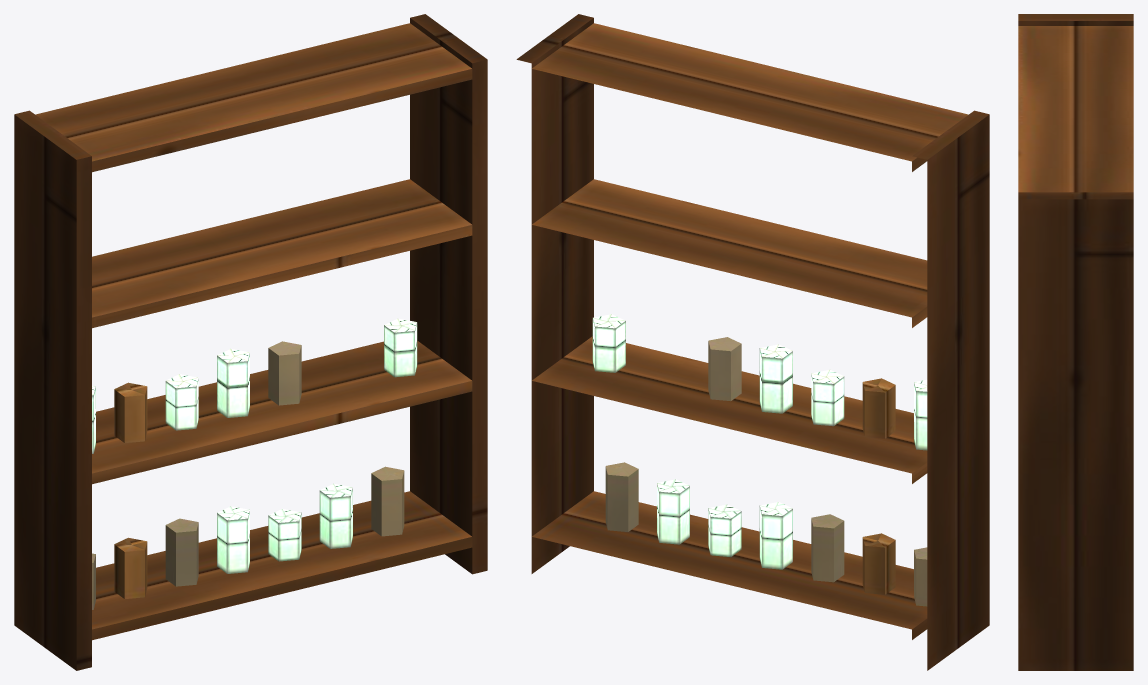
The model's file is shop_shelf.glb.
The picture shows the model from 3 angles, left to right: view 1: azimuth 30°, elevation 25°; view 2: azimuth 150°, elevation 25°; view 3: azimuth 270°, elevation 25°; orthographic projection. The views are drawn at different scales.
Visible parts, largest first — view 1: shop_shelf_mesh; view 2: shop_shelf_mesh; view 3: shop_shelf_mesh.
Boxes of the visible parts, x1=… form: shop_shelf_mesh: x1=14, y1=14, x2=487, y2=670; shop_shelf_mesh: x1=516, y1=14, x2=989, y2=670; shop_shelf_mesh: x1=1018, y1=14, x2=1133, y2=670.
Bounding box in the file's own units: 1.6 × 1.9 × 0.42.
Materials: 2 (2 with a texture image).
